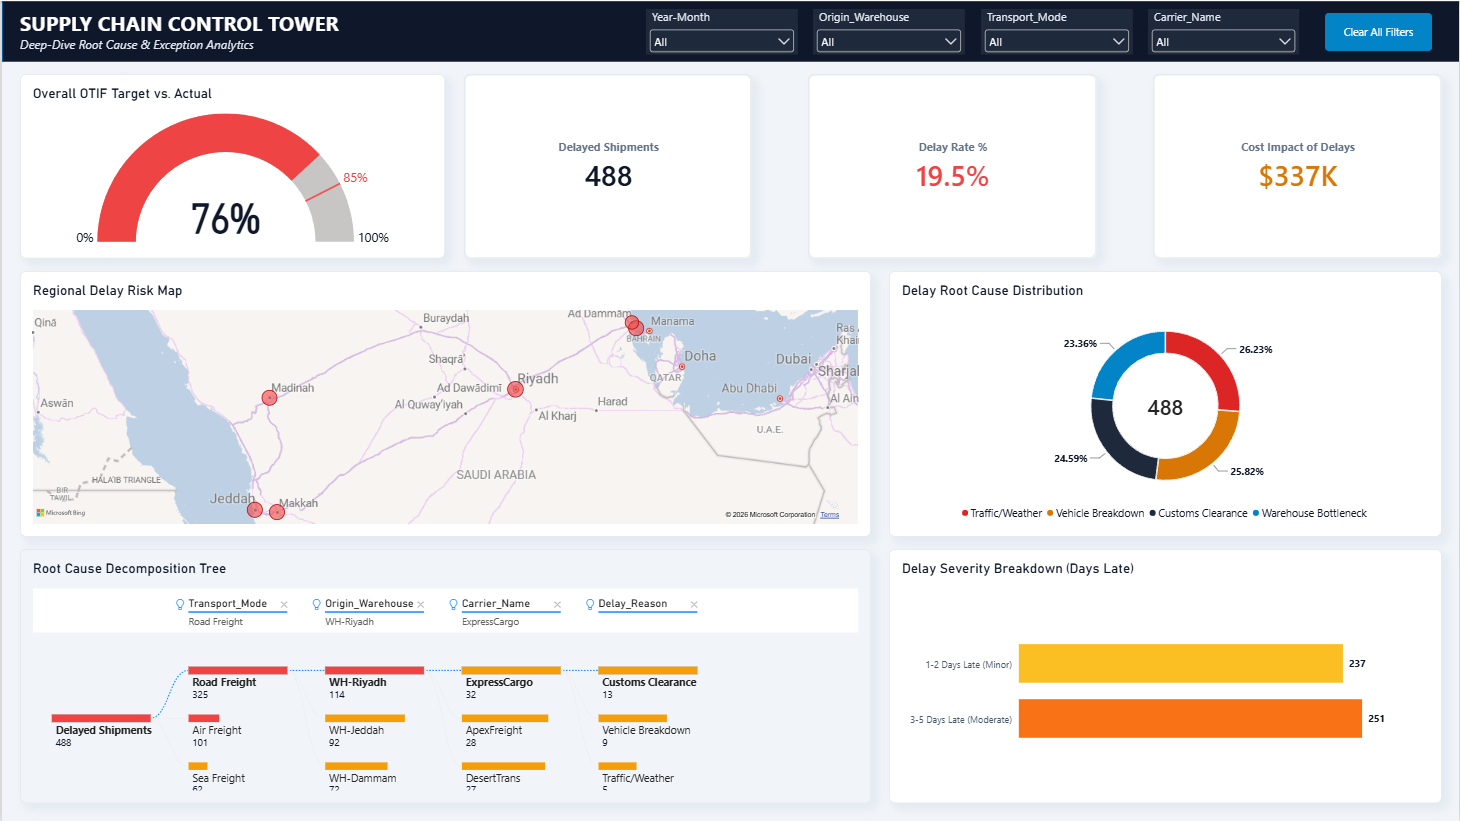

Layout of this report page (visuals, bound fields, positions):
{"tool":"powerbi","page":{"name":"Deep-Dive Analytics","canvas":[1920,1080],"ordinal":1},"visuals":[{"type":"shape","box":[0,0,1920,80.3],"z":0},{"type":"textbox","box":[23.7,10.5,650.6,69.8],"z":1000},{"type":"gauge","title":"Overall OTIF Target vs. Actual","fields":{"Y":["_Measures.OTIF %"]},"box":[23.7,96.1,559.8,243],"z":2000},{"type":"cardVisual","fields":{"Data":["_Measures.Delayed Shipments"]},"box":[608.5,96.1,379.3,243.7],"z":3000},{"type":"cardVisual","fields":{"Data":["_Measures.Delay Rate %"]},"box":[1061.6,96.1,380.6,243.7],"z":4000},{"type":"cardVisual","fields":{"Data":["_Measures.Cost Impact of Delays"]},"box":[1516,96.1,380.6,243.7],"z":5000},{"type":"map","title":"Regional Delay Risk Map","fields":{"Category":["logistics_control_tower_data.Destination_City"],"Size":["_Measures.Delayed Shipments"]},"box":[23.7,355.6,1120.8,350.3],"z":6000},{"type":"donutChart","title":"Delay Root Cause Distribution","fields":{"Category":["logistics_control_tower_data.Delay_Reason"],"Y":["_Measures.Delayed Shipments"]},"box":[1168.2,355.6,728,350],"z":7000},{"type":"decompositionTreeVisual","title":"Root Cause Decomposition Tree","fields":{"Analyze":["_Measures.Delayed Shipments"],"ExplainBy":["logistics_control_tower_data.Transport_Mode","logistics_control_tower_data.Origin_Warehouse","logistics_control_tower_data.Carrier_Name","logistics_control_tower_data.Delay_Reason"]},"box":[23.7,721.8,1120.8,334.5],"z":8000},{"type":"clusteredBarChart","title":"Delay Severity Breakdown (Days Late)","fields":{"Category":["logistics_control_tower_data.Delay_Severity_Bucket"],"Y":["_Measures.Delayed Shipments"]},"box":[1168.2,721.8,728.3,334.5],"z":9000},{"type":"slicer","fields":{"Values":["Dim_Date.Year-Month"]},"box":[848.2,11,200.2,60],"z":10000},{"type":"slicer","fields":{"Values":["logistics_control_tower_data.Origin_Warehouse"]},"box":[1068.8,11,200,60],"z":11000},{"type":"slicer","fields":{"Values":["logistics_control_tower_data.Transport_Mode"]},"box":[1288.8,11,200,60],"z":12000},{"type":"slicer","fields":{"Values":["logistics_control_tower_data.Carrier_Name"]},"box":[1509.4,11,198.9,60],"z":13000},{"type":"actionButton","box":[1742.5,15.8,140.9,50],"z":14000}]}

Visuals, with their boxes in screenshot pixels (x1, y1, x2, y2), scaled from the page's 1920x1080 canvas onto the 1460x821 screenshot:
shape: 0:0:1459:61
textbox: 18:8:513:61
"Overall OTIF Target vs. Actual" gauge: 18:73:444:258
cardVisual - _Measures.Delayed Shipments: 463:73:751:258
cardVisual - _Measures.Delay Rate %: 807:73:1097:258
cardVisual - _Measures.Cost Impact of Delays: 1153:73:1442:258
"Regional Delay Risk Map" map: 18:270:870:537
"Delay Root Cause Distribution" donutChart: 888:270:1442:536
"Root Cause Decomposition Tree" decompositionTreeVisual: 18:549:870:803
"Delay Severity Breakdown (Days Late)" clusteredBarChart: 888:549:1442:803
slicer - Dim_Date.Year-Month: 645:8:797:54
slicer - logistics_control_tower_data.Origin_Warehouse: 813:8:965:54
slicer - logistics_control_tower_data.Transport_Mode: 980:8:1132:54
slicer - logistics_control_tower_data.Carrier_Name: 1148:8:1299:54
actionButton: 1325:12:1432:50
